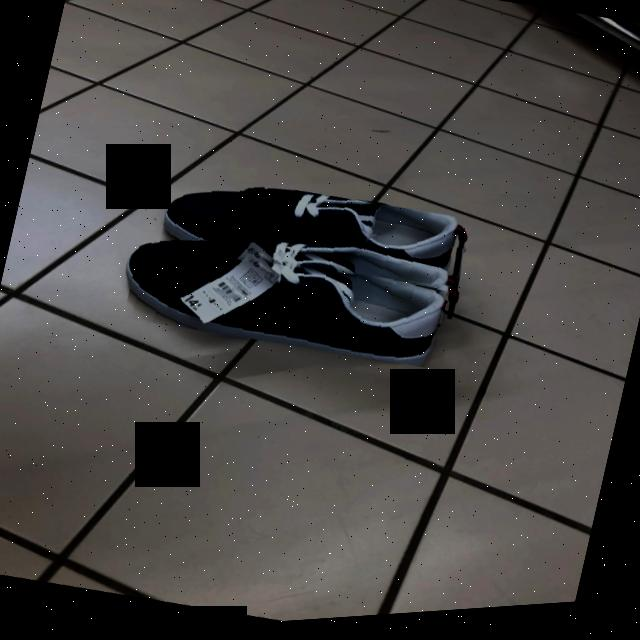shoe: (130, 246, 438, 372), (163, 192, 466, 296)
